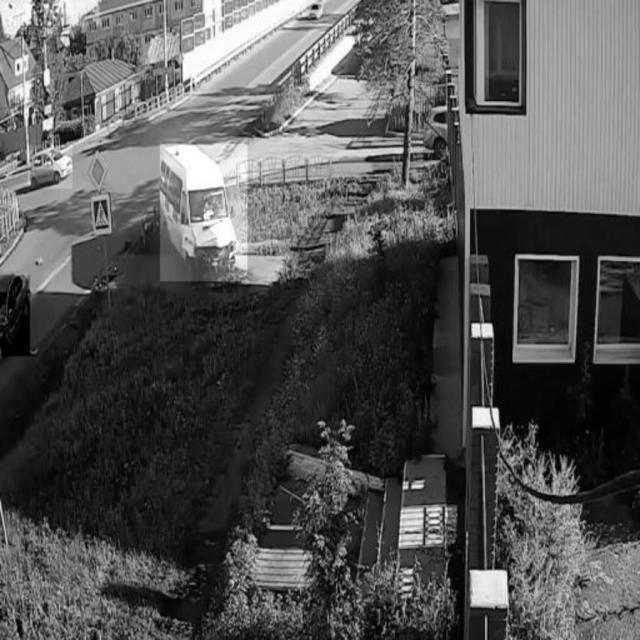accident: (160, 144, 248, 281)
vehicle: (0, 275, 30, 356), (28, 145, 73, 189), (307, 0, 323, 20)
